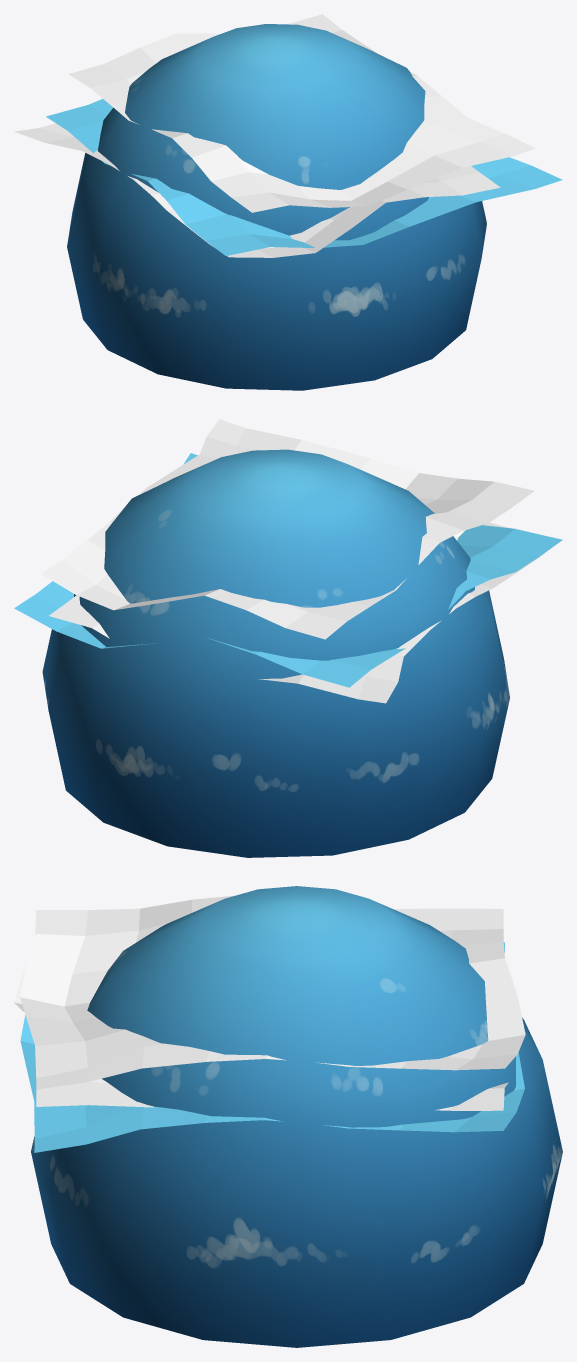
The model's file is full_level_scene.FBX.
The picture shows the model from 3 angles, top to bottom: view 1: azimuth 30°, elevation 25°; view 2: azimuth 150°, elevation 25°; view 3: azimuth 270°, elevation 25°; orthographic projection. The views are drawn at different scales.
Parts seen in each view (by area): view 1: SKYBOX, Clouds_01, Clouds_003, Clouds_002; view 2: SKYBOX, Clouds_01, Clouds_003, Clouds_002; view 3: SKYBOX, Clouds_01, Clouds_003, Clouds_002.
Boxes of the visible parts, x1,y1,x2,y2 form: SKYBOX: (67,24,486,390); Clouds_01: (68,14,535,212); Clouds_003: (46,99,562,255); Clouds_002: (15,123,500,257); SKYBOX: (42,449,509,857); Clouds_01: (41,419,534,639); Clouds_003: (14,453,562,687); Clouds_002: (49,522,561,703); SKYBOX: (31,886,562,1347); Clouds_01: (20,895,525,1089); Clouds_003: (20,942,524,1152); Clouds_002: (14,961,508,1110).
Size of the model in its own units: 360523 by 249245 by 371989.
